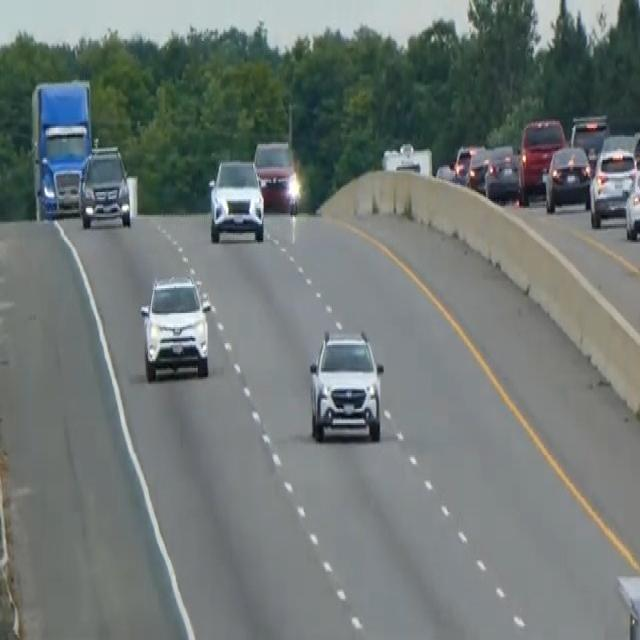car: (207, 156, 265, 244), (78, 143, 132, 230), (589, 133, 638, 226), (517, 115, 566, 201), (253, 137, 300, 215), (543, 142, 591, 212), (569, 112, 609, 169), (484, 142, 520, 201), (452, 141, 483, 183), (624, 162, 639, 240), (466, 146, 491, 192), (632, 128, 639, 174)
jeep: (306, 324, 385, 444), (138, 272, 212, 382)
lorry: (29, 74, 94, 220)
